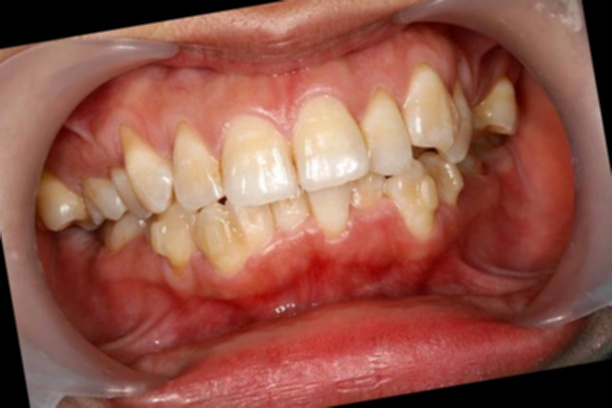Gingivitis: (179, 232, 443, 335)
